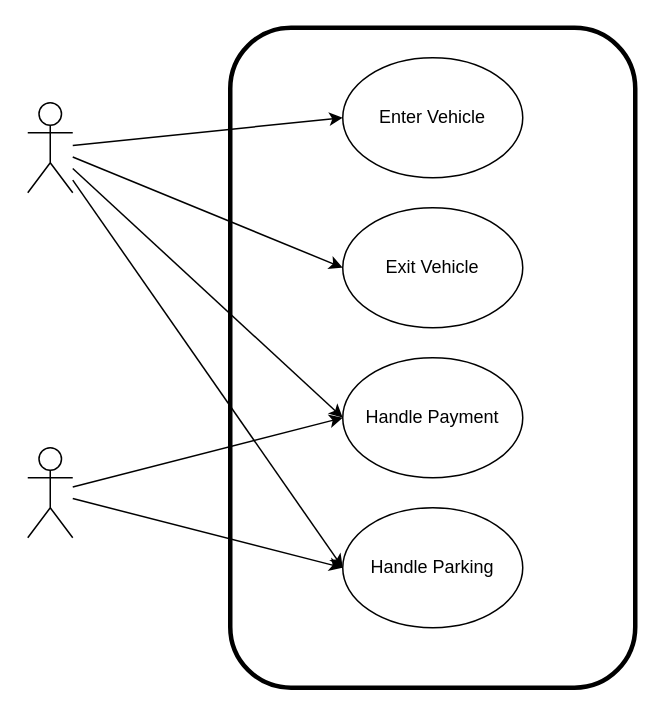
Image size: 663x716. Some labels were removed from this diagram. Here are the shapes that lost their labels. From the top down, the centre of each, then its label:
the point at 49,147: User
the point at 49,492: Guard
